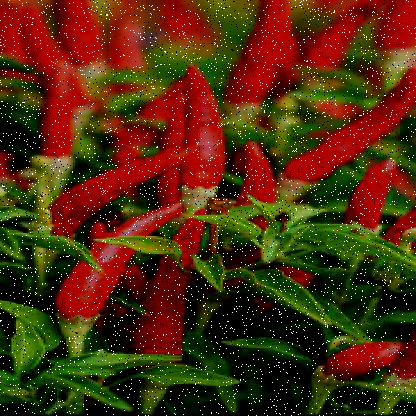chili: (57, 200, 186, 329), (130, 212, 222, 354), (162, 69, 230, 200), (28, 67, 75, 156), (342, 161, 400, 225)
